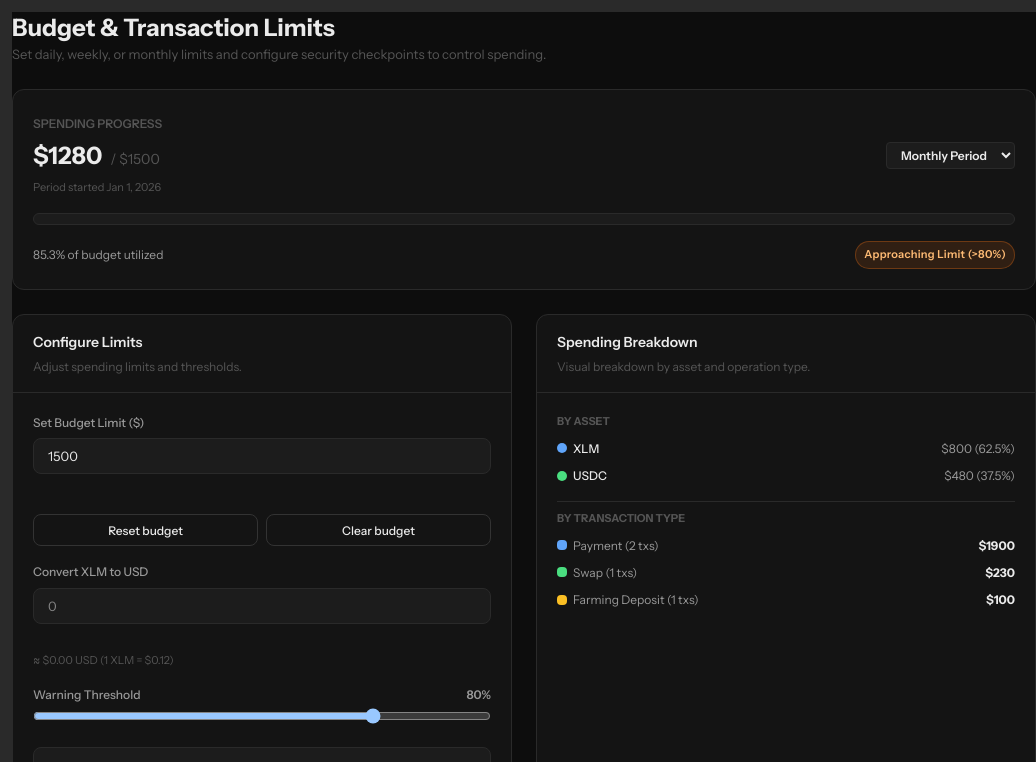
BudgetScreen › shows limit exceeded badge and banner at 100%
Replace the text in the number field labelled "Set Budget Limit ($)" with "1280" at x=262, y=456, box [33,438,491,474]
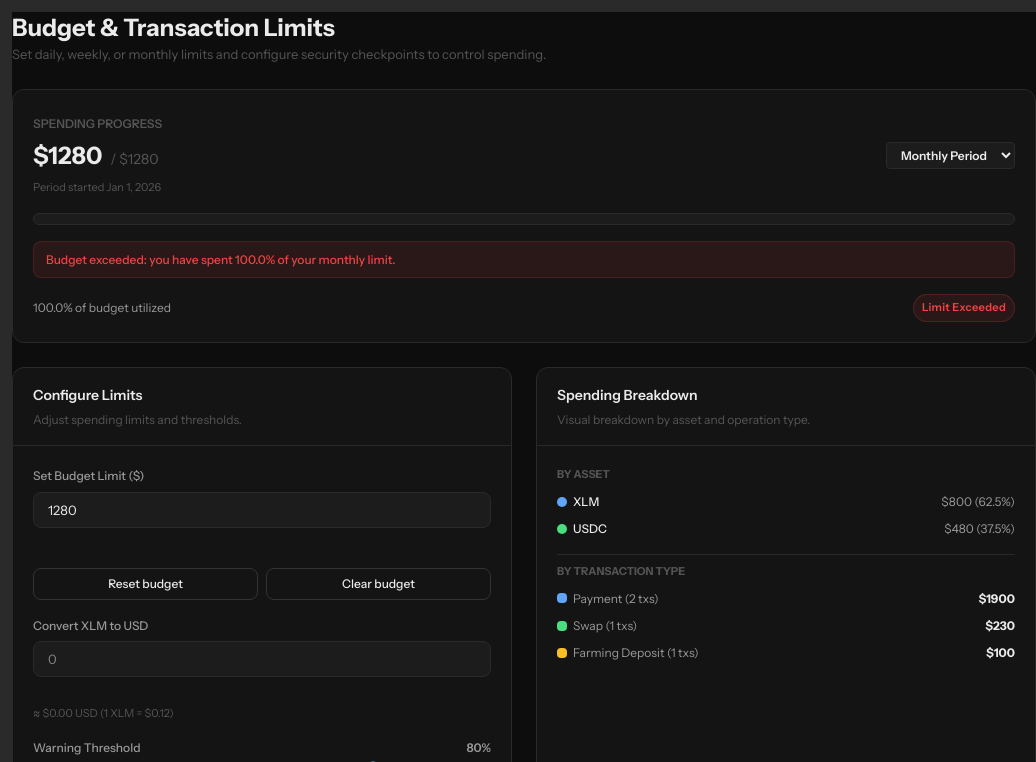
Expected: the text "Limit Exceeded" is shown, [913,294,1015,322]
Expected: the message with test id "budget-alert-banner" shows "Budget exceeded", [46,252,395,267]
